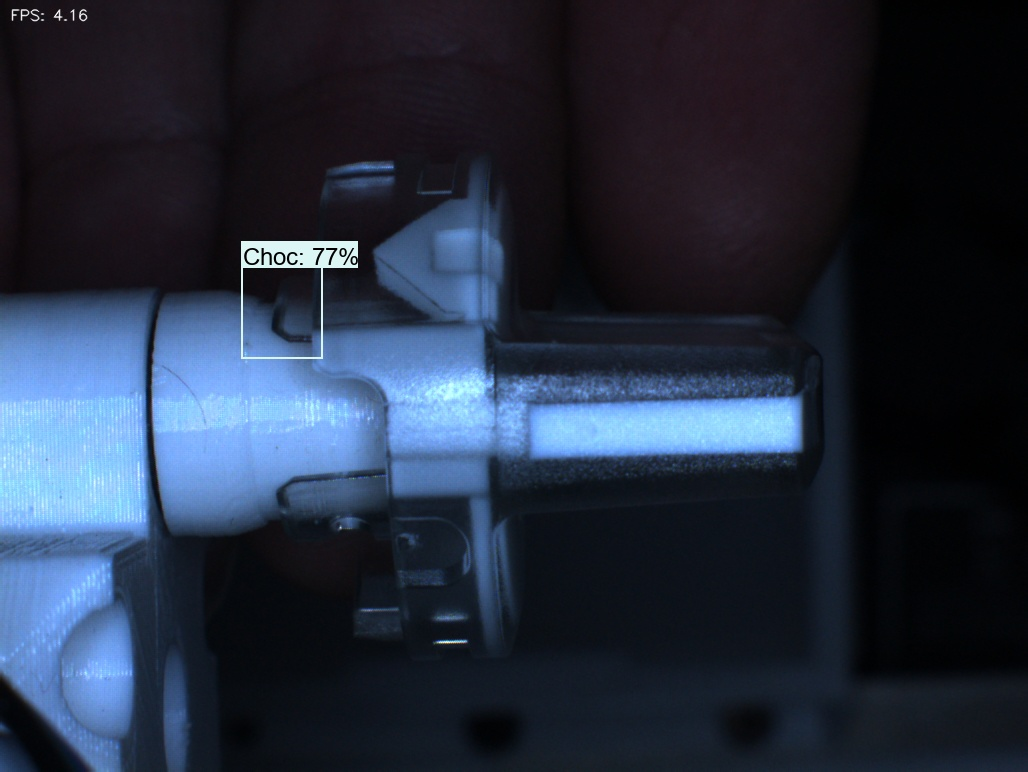DentOk: (354, 214, 425, 318)
